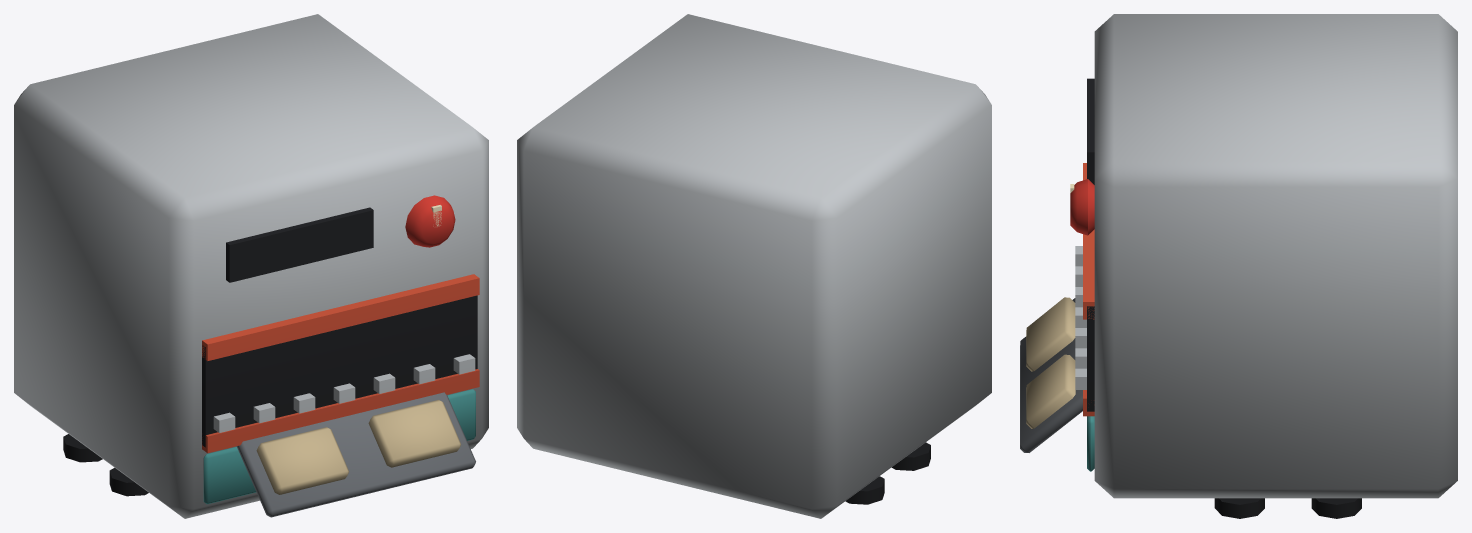
File: SM_Toaster_Conveyor_01.glb
The picture shows the model from 3 angles, left to right: view 1: azimuth 30°, elevation 25°; view 2: azimuth 150°, elevation 25°; view 3: azimuth 270°, elevation 25°; orthographic projection. The views are drawn at different scales.
Visible parts, largest first — view 1: SM_Toaster_Conveyor_01; view 2: SM_Toaster_Conveyor_01; view 3: SM_Toaster_Conveyor_01.
Boxes of the visible parts, x1,y1,x2,y2 form: SM_Toaster_Conveyor_01: (14,14,488,518); SM_Toaster_Conveyor_01: (517,14,991,518); SM_Toaster_Conveyor_01: (1020,14,1457,518).
Size of the model in its own units: 0.4 by 0.4 by 0.452.
1 material, 1 textured.
